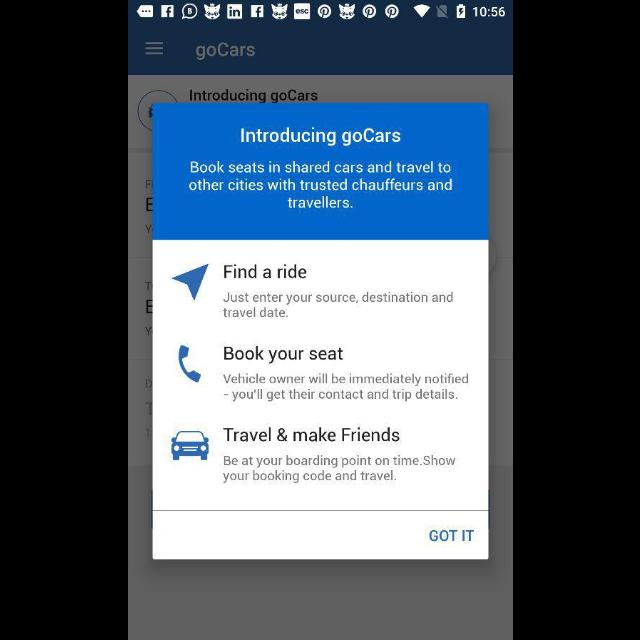icon: (172, 264, 208, 302), (145, 42, 163, 56)
image: (171, 431, 209, 461), (178, 345, 200, 383)
panel: (152, 102, 488, 560)
text: (188, 161, 452, 209), (222, 372, 468, 402), (222, 454, 456, 484), (222, 292, 452, 318), (240, 127, 400, 147), (222, 428, 400, 442), (224, 346, 342, 364), (223, 264, 307, 280), (196, 43, 254, 61), (428, 530, 474, 542)
uppertaskbar: (128, 1, 512, 23)
